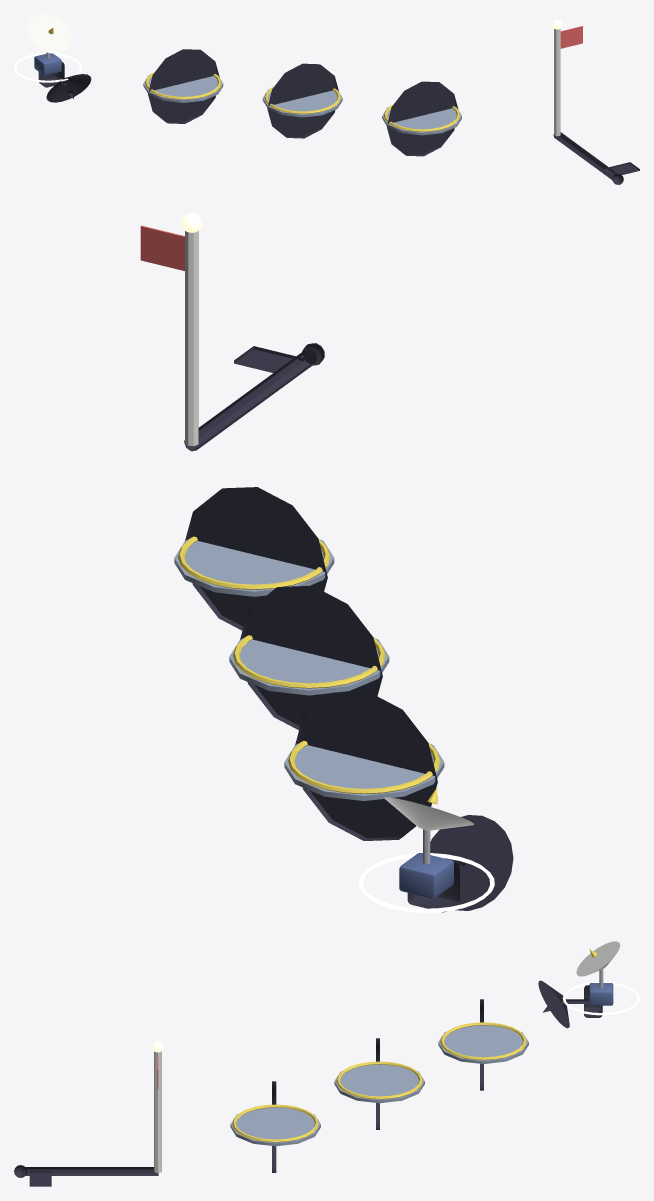
Rendered from Zona_Cresta.fbx.
3 renders of one model, top to bottom at view 1: azimuth 30°, elevation 25°; view 2: azimuth 150°, elevation 25°; view 3: azimuth 270°, elevation 25°, orthographic. The views are drawn at different scales.
Visible parts, largest first — view 1: Pad.006_Contorno, Pad.004_Contorno, Pad.005_Contorno, Com_Plato, Pad.005, Pad.006, Pad.004, Com_Plato_Contorno, Baliza_Torre, Baliza_Torre_Contorno, Com_Base, Baliza_Bandera (+6 smaller); view 2: Pad.004_Contorno, Pad.005_Contorno, Pad.006_Contorno, Pad.005, Pad.004, Com_Plato_Contorno, Pad.006, Baliza_Torre, Baliza_Torre_Contorno, Com_Base, Baliza_Bandera, Com_Plato (+5 smaller); view 3: Pad.005, Pad.006, Pad.004, Baliza_Torre_Contorno, Baliza_Torre, Com_Plato, Pad_Aro.004, Pad_Aro.005, Pad_Aro.006, Com_Plato_Contorno, Com_Base, Pieza_Comunicaciones_Marcador (+1 smaller).
Part boxes in pixels (bbox=[...]): Pad.006_Contorno: bbox=[386, 81, 458, 156]; Pad.004_Contorno: bbox=[148, 49, 219, 123]; Pad.005_Contorno: bbox=[267, 63, 338, 138]; Com_Plato: bbox=[27, 14, 71, 53]; Pad.005: bbox=[262, 89, 342, 117]; Pad.006: bbox=[382, 107, 461, 135]; Pad.004: bbox=[143, 74, 223, 102]; Com_Plato_Contorno: bbox=[46, 74, 91, 102]; Baliza_Torre: bbox=[554, 28, 560, 136]; Baliza_Torre_Contorno: bbox=[553, 132, 620, 181]; Com_Base: bbox=[34, 53, 61, 75]; Baliza_Bandera: bbox=[560, 26, 582, 48]; Pad.004_Contorno: bbox=[295, 691, 437, 840]; Pad.005_Contorno: bbox=[240, 585, 382, 730]; Pad.006_Contorno: bbox=[185, 487, 327, 630]; Pad.005: bbox=[229, 638, 389, 695]; Pad.004: bbox=[284, 744, 444, 800]; Com_Plato_Contorno: bbox=[430, 815, 513, 910]; Pad.006: bbox=[174, 539, 334, 596]; Baliza_Torre: bbox=[185, 231, 198, 445]; Baliza_Torre_Contorno: bbox=[184, 349, 317, 451]; Com_Base: bbox=[399, 853, 453, 898]; Baliza_Bandera: bbox=[140, 225, 184, 270]; Com_Plato: bbox=[384, 797, 473, 830]; Pad.005: bbox=[334, 1064, 424, 1103]; Pad.006: bbox=[230, 1107, 320, 1146]; Pad.004: bbox=[438, 1025, 528, 1063]; Baliza_Torre_Contorno: bbox=[24, 1167, 158, 1175]; Baliza_Torre: bbox=[154, 1051, 161, 1172]; Com_Plato: bbox=[576, 941, 620, 976]; Pad_Aro.004: bbox=[440, 1022, 526, 1060]; Pad_Aro.005: bbox=[336, 1061, 422, 1099]; Pad_Aro.006: bbox=[232, 1104, 318, 1142]; Com_Plato_Contorno: bbox=[538, 980, 569, 1028]; Com_Base: bbox=[589, 983, 613, 1005]; Pieza_Comunicaciones_Marcador: bbox=[562, 981, 639, 1015].
Bounding box in the file's own units: 18.08 × 7.16 × 23.49.
